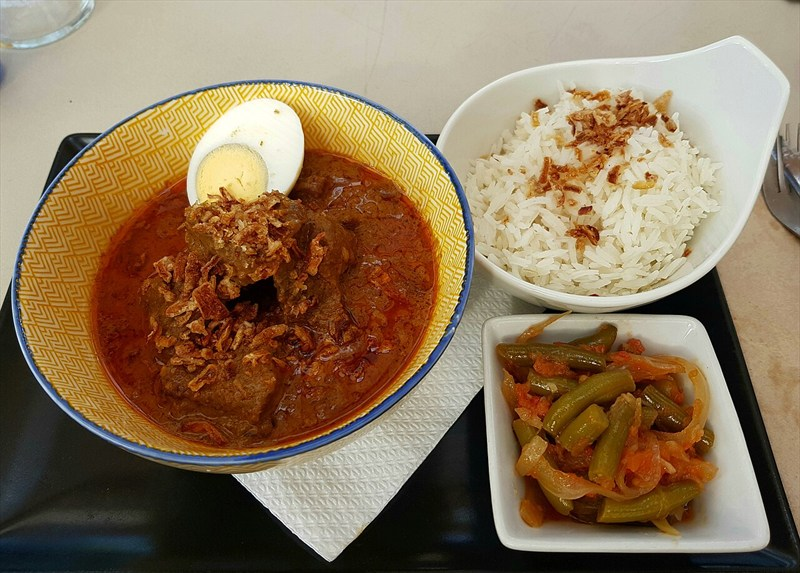Rendang: (87, 114, 718, 521)
